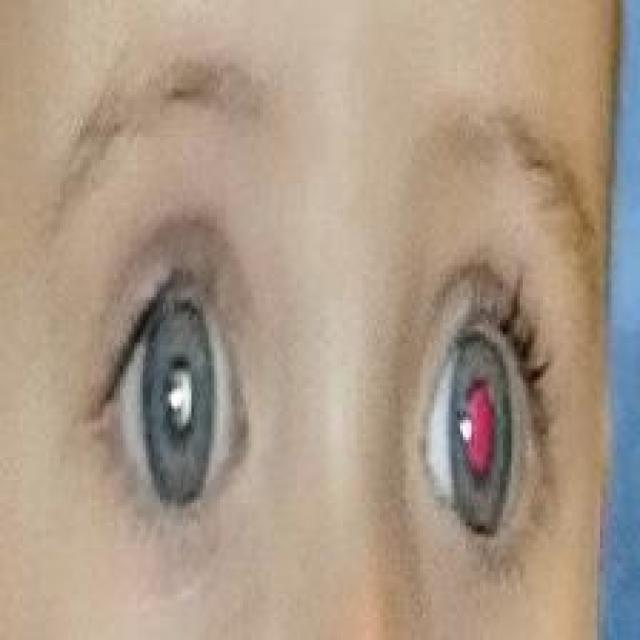reflexo-alterado: (79, 302, 237, 509)
reflexo-normal: (420, 322, 557, 544)
